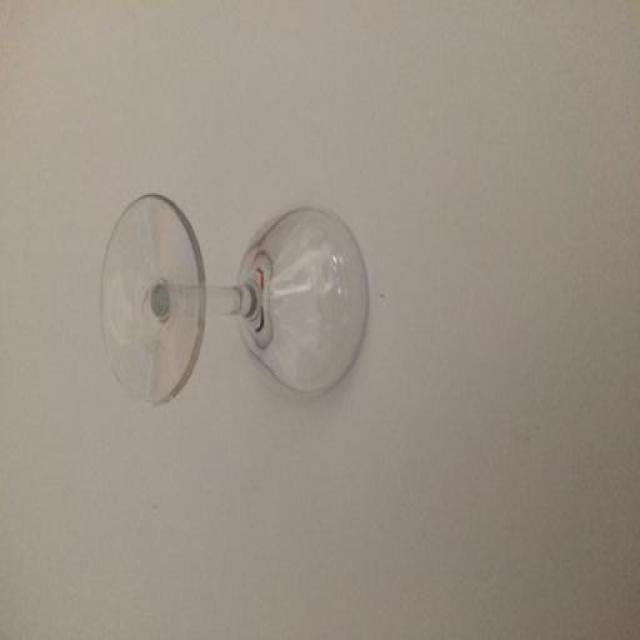Waste: (102, 193, 369, 403)
